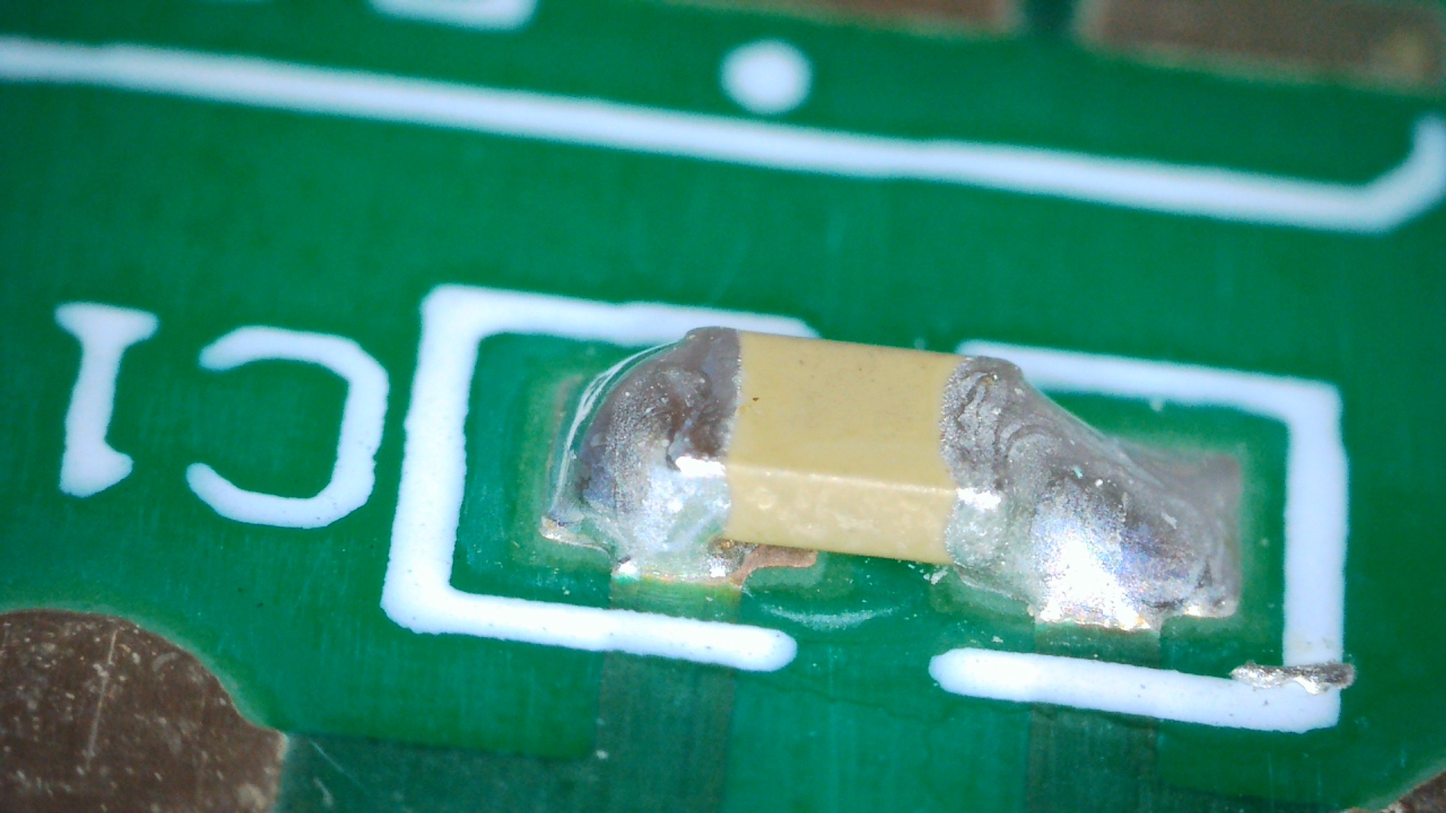NG: (953, 357, 1233, 633), (552, 326, 755, 582)
